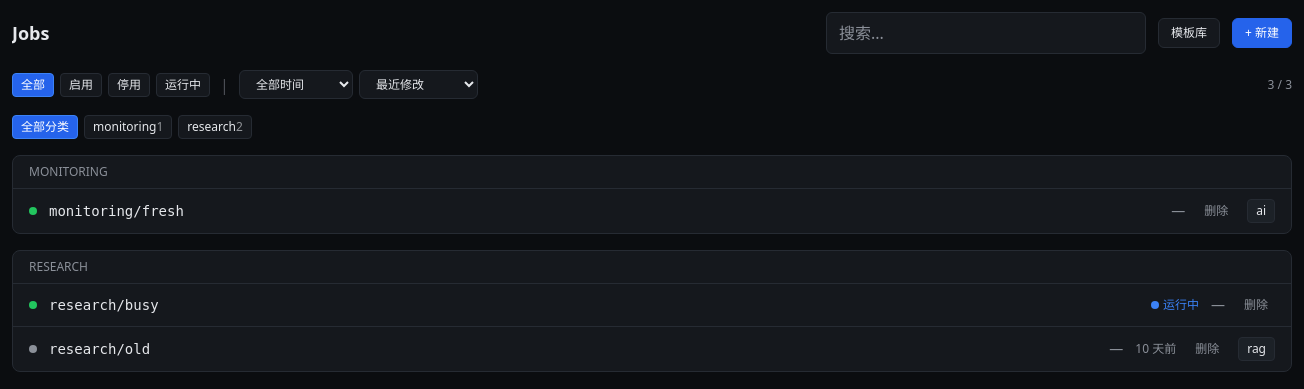
Test case: JobsList filters › filters by status
The image size is (1304, 389).
Expected: the text "monitoring/fresh" is shown, 49,203 -> 184,219
Click the button "停用" at (129, 84), box 108,72 -> 150,96
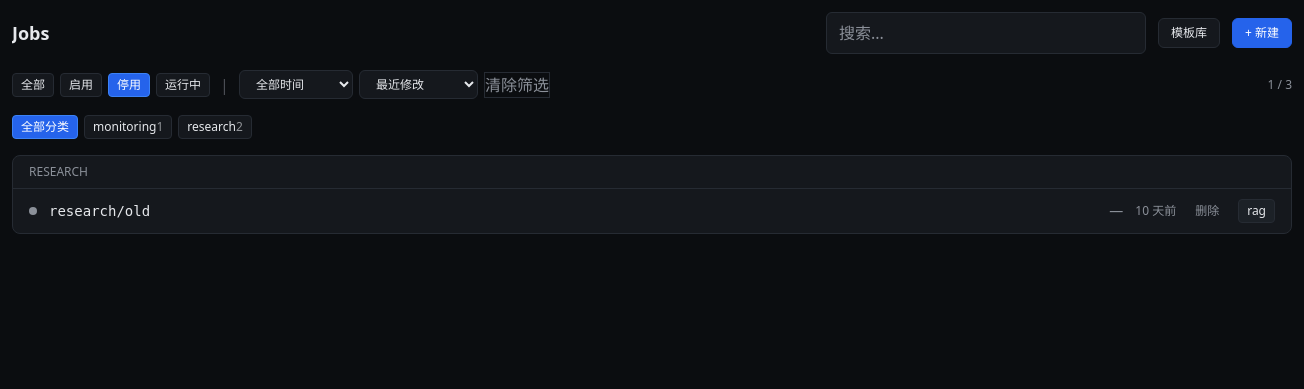
Expected: the text "research/old" is shown, 49,203 -> 150,219
Now the link "monitoring/fresh" is gone
Click the button "运行中" at (183, 84), box 156,72 -> 210,96
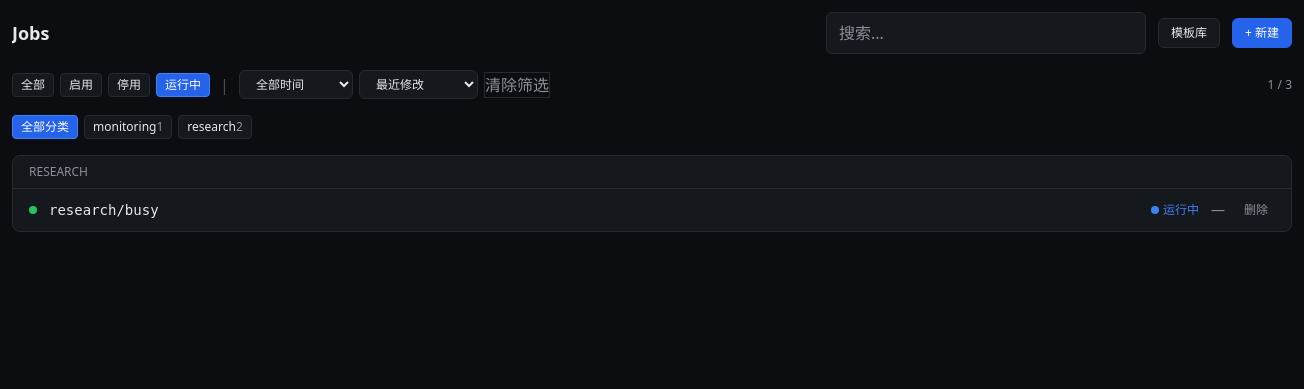
Now the link "research/old" is gone
Now the text "research/busy" is shown, box 49,202 -> 159,218
